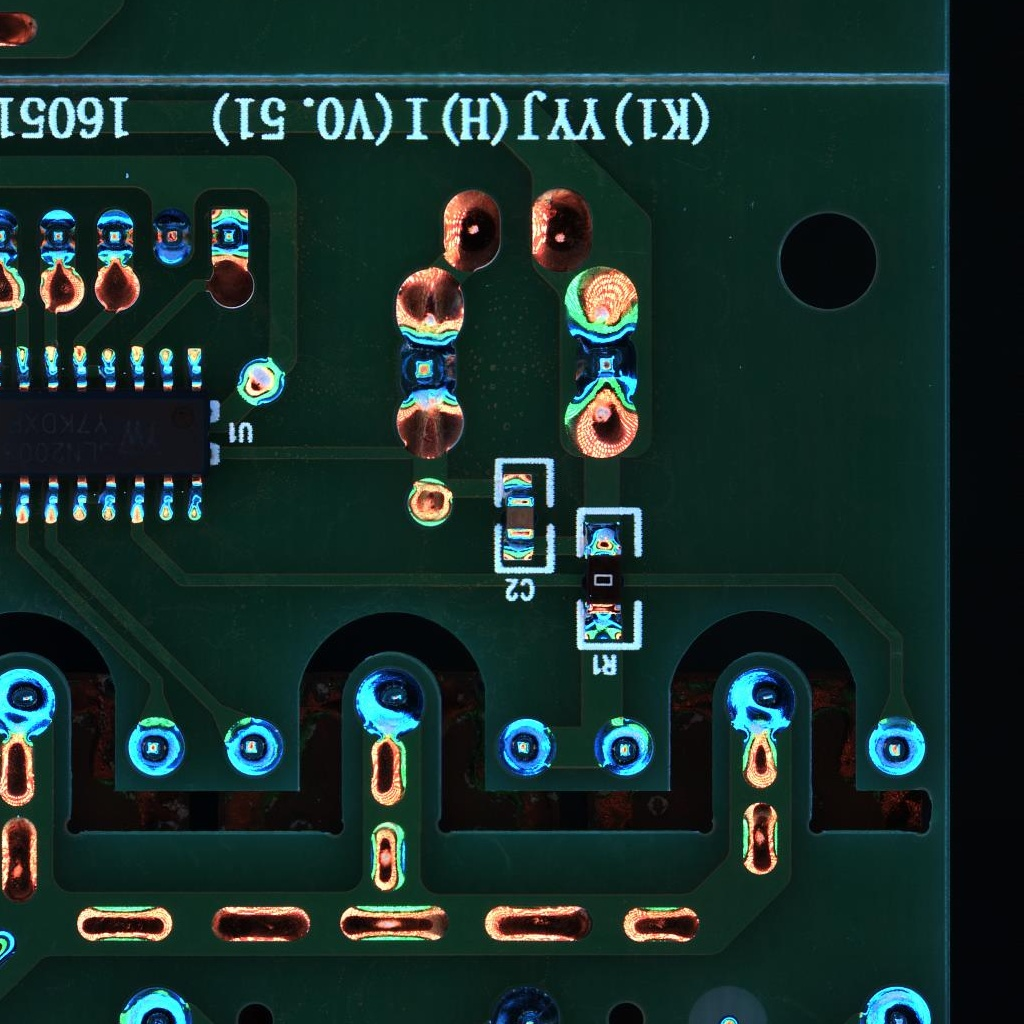spot: (566, 321, 640, 403), (352, 667, 427, 741), (723, 665, 797, 739), (394, 329, 460, 406), (1, 666, 57, 747), (222, 717, 288, 781), (864, 714, 928, 777), (125, 716, 188, 780), (495, 718, 560, 780), (593, 716, 656, 778), (858, 984, 936, 1024), (118, 984, 193, 1024), (490, 985, 563, 1024), (235, 356, 288, 408), (149, 203, 190, 266), (209, 206, 251, 265), (94, 208, 136, 267), (39, 208, 75, 265), (1, 208, 20, 270)
